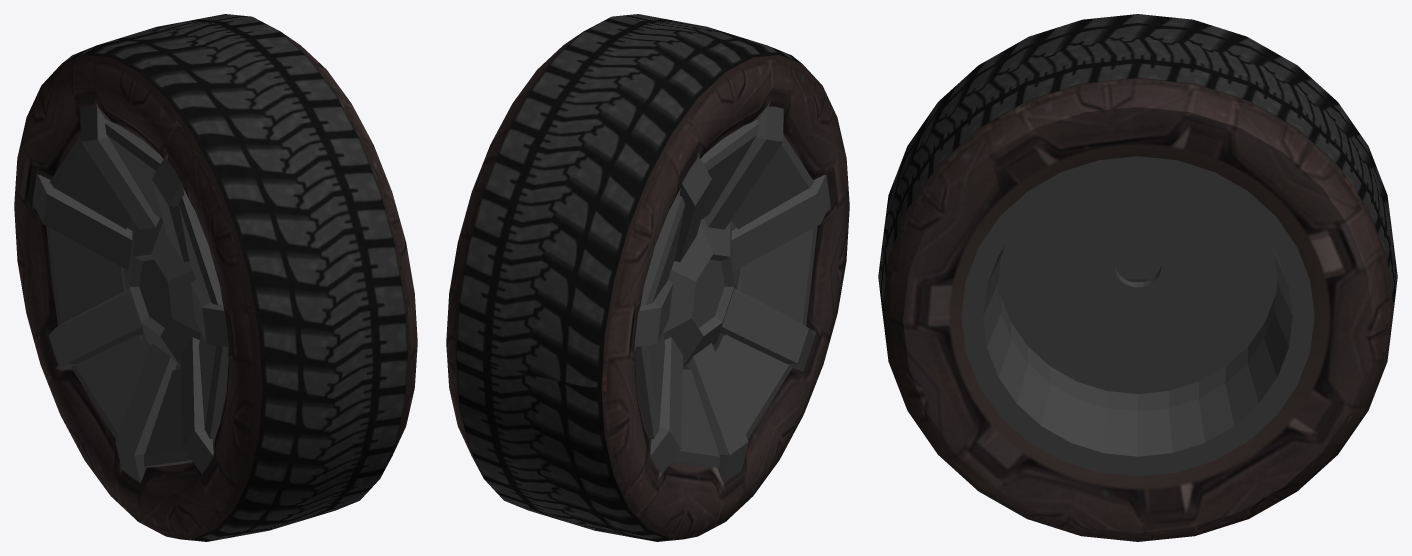
File: wheel.gltf
3 renders of one model, left to right at view 1: azimuth 30°, elevation 25°; view 2: azimuth 150°, elevation 25°; view 3: azimuth 270°, elevation 25°, orthographic.
Visible parts, largest first — view 1: tires; view 2: tires; view 3: tires.
Part boxes in pixels (<box>): tires: <box>14,14,417,541</box>; tires: <box>446,14,849,541</box>; tires: <box>878,14,1397,541</box>.
Size of the model in its own units: 0.7158 by 1.82 by 1.82.
1 material, 1 textured.
